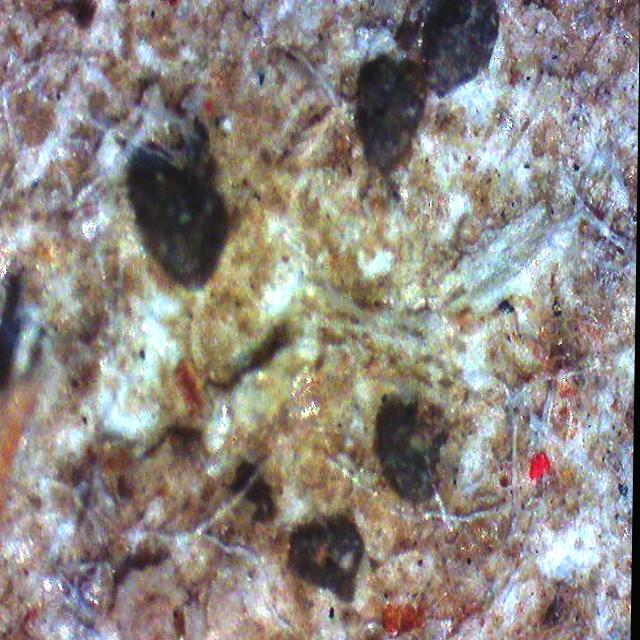microplastic: (531, 449, 552, 480)
